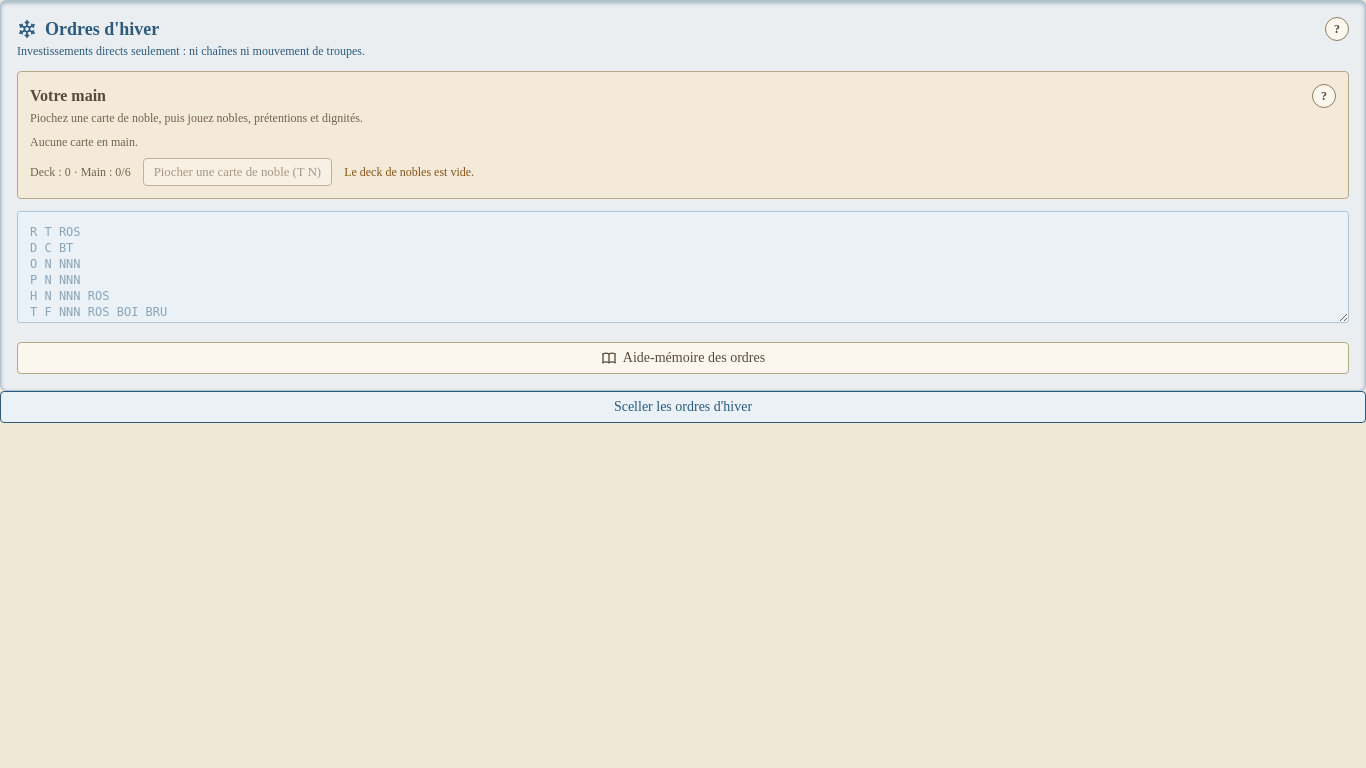
Test case: OrdersPanel seasonal presentation › makes winter direct investments visually and textually distinct
Expected: the 1st icon is shown, top-left (17, 19), bottom-right (37, 39)
Expected: the text "Investissements directs seulement : ni chaînes ni mouvement de troupes." is shown, top-left (17, 44), bottom-right (365, 58)
Click the button named "Aide : Ordres d'hiver" at (1337, 29), box top-left (1325, 17), bottom-right (1349, 41)
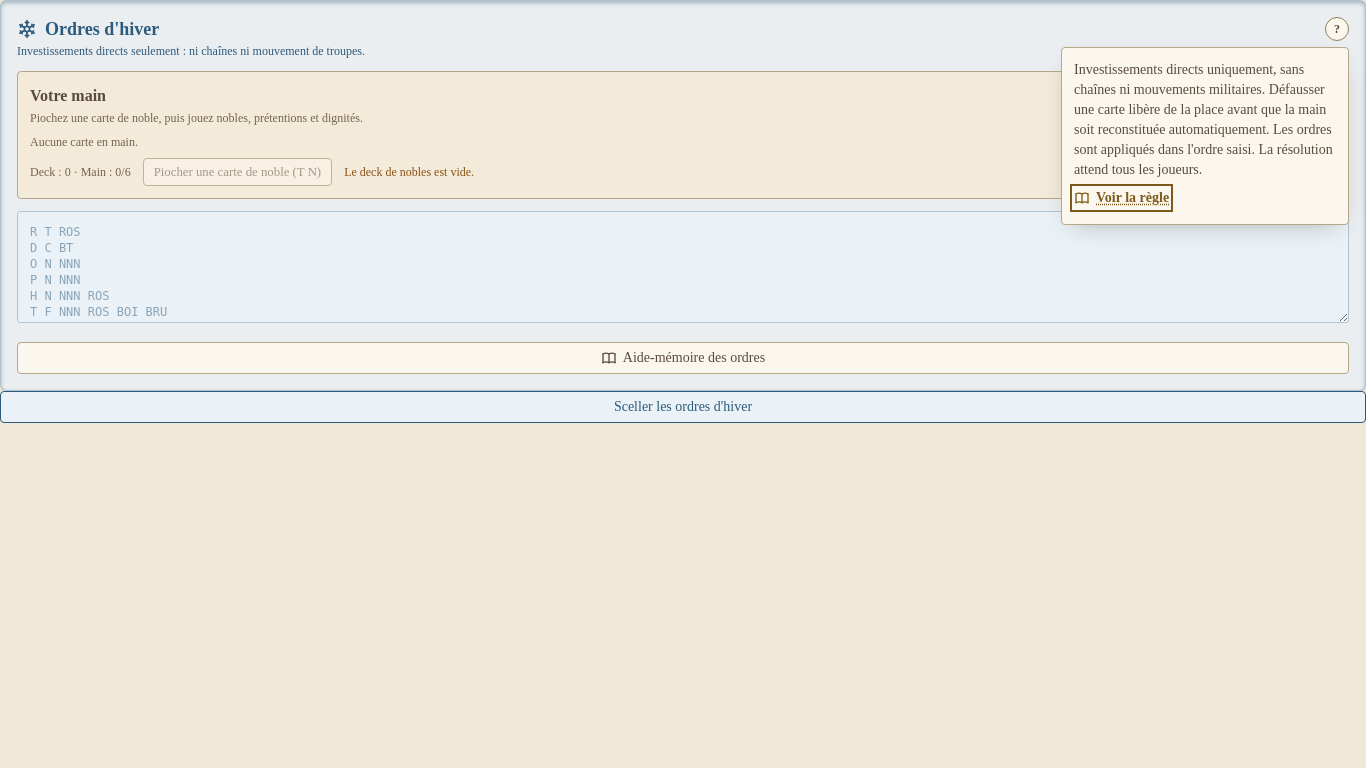
Expected: the text "Investissements directs uniquement" does not show "D C", top-left (1074, 60), bottom-right (1336, 180)
Now the text "sans chaînes ni mouvements militaires" is shown, box top-left (1074, 62), bottom-right (1333, 177)
